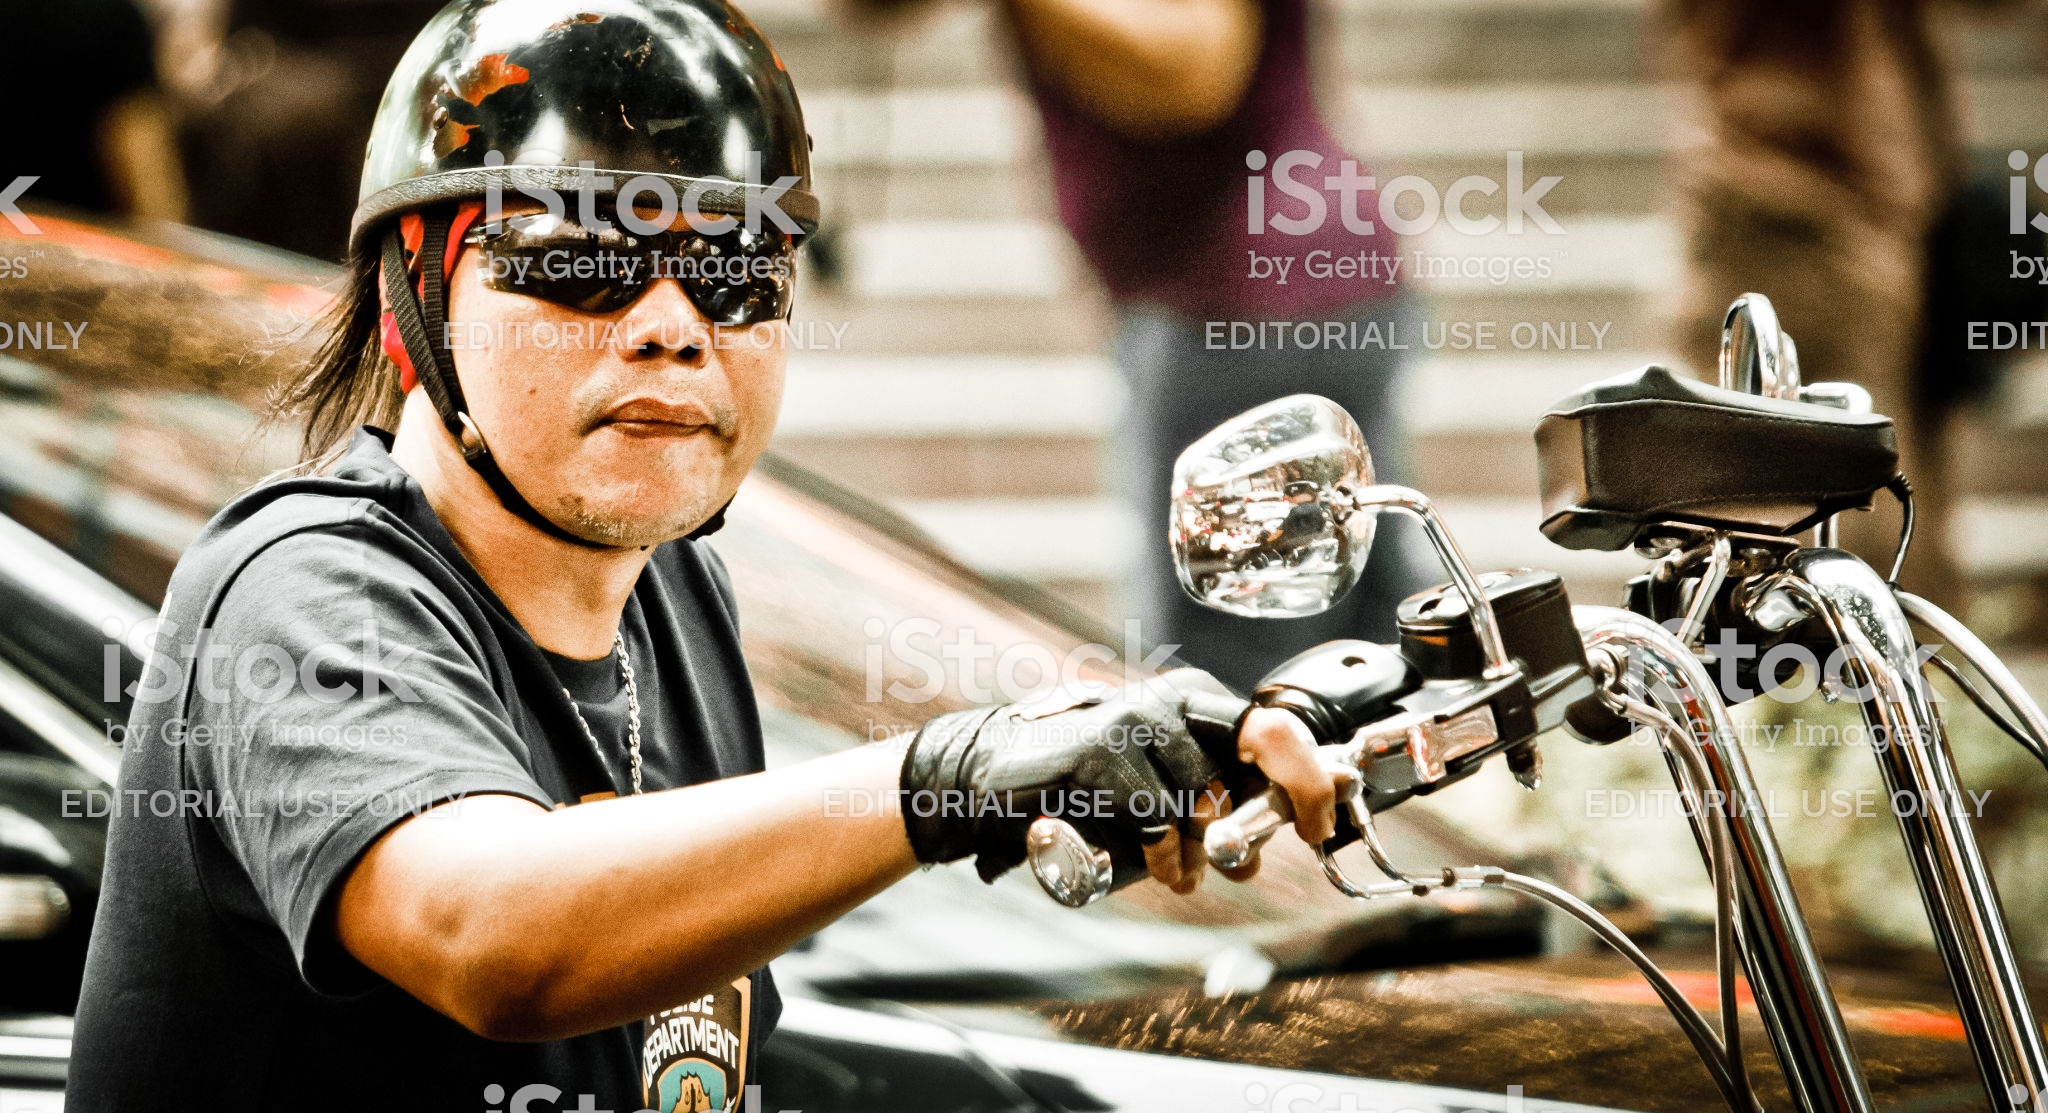helmet: (352, 4, 815, 270)
